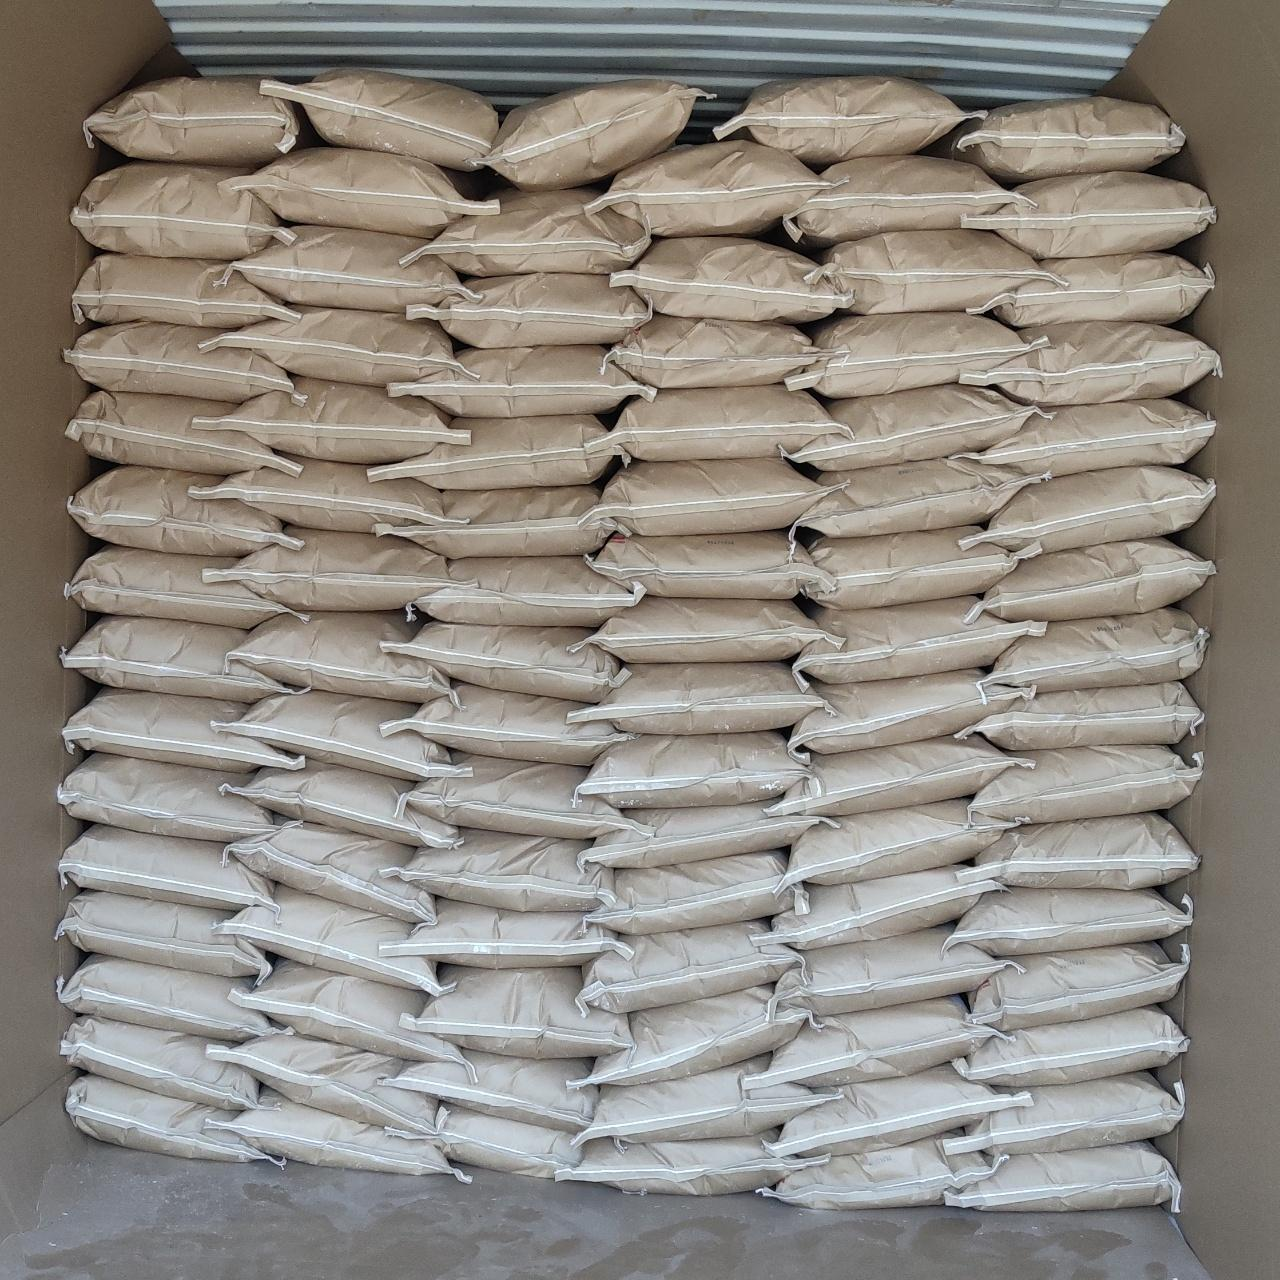sack: (476, 80, 708, 188), (220, 886, 444, 994), (224, 148, 493, 236), (234, 960, 462, 1062), (207, 1034, 438, 1133), (770, 1064, 1030, 1152), (264, 70, 496, 168), (592, 142, 832, 236), (586, 988, 812, 1084), (719, 76, 972, 162), (207, 1092, 468, 1176), (788, 312, 1040, 396), (787, 386, 1039, 470), (760, 996, 998, 1085), (229, 692, 467, 779), (776, 926, 1014, 1014), (966, 322, 1220, 404), (787, 156, 1017, 246), (576, 1058, 824, 1142), (964, 172, 1214, 254), (72, 162, 284, 258), (226, 818, 430, 918), (416, 188, 648, 274), (222, 762, 459, 846), (952, 400, 1214, 476), (382, 682, 626, 764), (974, 467, 1214, 550), (942, 98, 1182, 182), (224, 377, 459, 462), (64, 688, 300, 772), (60, 617, 297, 700), (84, 76, 308, 164), (68, 544, 300, 628), (580, 922, 799, 1012), (612, 238, 850, 320), (70, 467, 292, 554), (202, 306, 456, 382), (232, 612, 445, 702), (798, 598, 1040, 678), (776, 738, 1032, 813), (968, 940, 1186, 1028), (411, 966, 629, 1054), (382, 620, 622, 700), (760, 869, 1000, 948), (232, 226, 462, 309), (210, 527, 445, 608), (982, 540, 1214, 622), (794, 670, 1032, 750), (66, 390, 297, 472), (60, 954, 284, 1039), (946, 1073, 1182, 1152), (787, 799, 1014, 881), (66, 1074, 275, 1162), (406, 754, 624, 838), (62, 1016, 258, 1110), (195, 459, 445, 532), (370, 416, 628, 486), (798, 458, 1036, 535), (57, 754, 272, 838), (816, 230, 1042, 309), (60, 824, 270, 910), (57, 892, 270, 976), (602, 386, 844, 459), (390, 346, 652, 414), (804, 527, 1030, 606), (983, 608, 1206, 688), (954, 1008, 1186, 1084), (576, 662, 821, 734), (971, 745, 1200, 822), (66, 324, 294, 400), (971, 254, 1212, 326), (595, 458, 822, 535), (399, 830, 614, 910), (578, 731, 806, 806), (590, 852, 804, 932), (410, 274, 648, 346), (376, 486, 620, 556), (382, 898, 628, 966), (968, 813, 1198, 886), (948, 1142, 1180, 1212), (388, 1051, 595, 1130), (608, 314, 828, 388), (590, 530, 828, 598), (760, 1138, 996, 1206), (958, 682, 1201, 748), (558, 1133, 818, 1194), (948, 888, 1190, 954), (74, 254, 294, 326), (592, 595, 836, 660), (584, 802, 828, 866), (414, 556, 640, 624), (433, 1107, 590, 1176)
